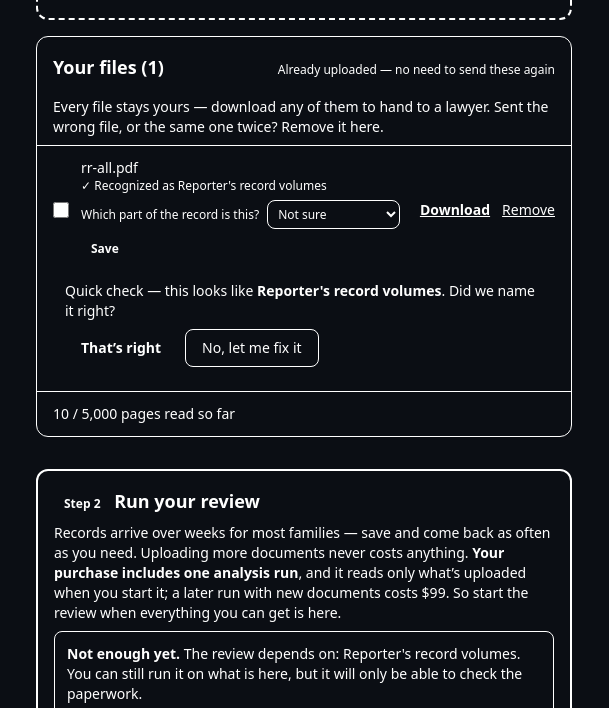
Test: document quick check › a failed save is said, not swallowed
(page scrolled)
expect the element with test id "echoback" is shown: met, box [53,269,555,379]
Click the button "That’s right": (121, 348) [65,329,177,367]
(page scrolled)
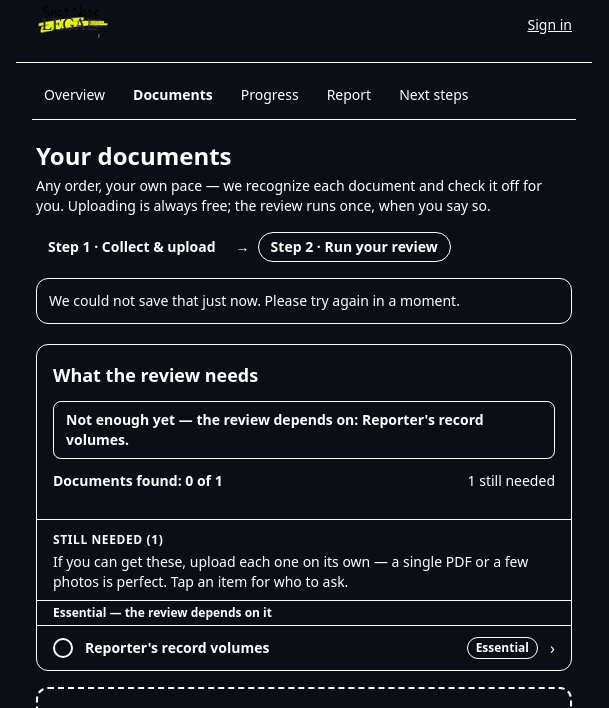
expect the text "We could not save that just now. Please try again in a moment." is shown: met, box [36,278,572,324]
